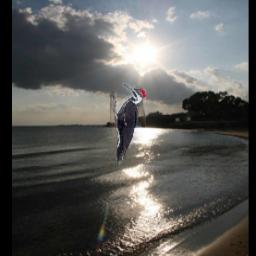Woodpecker: (111, 84, 147, 166)
